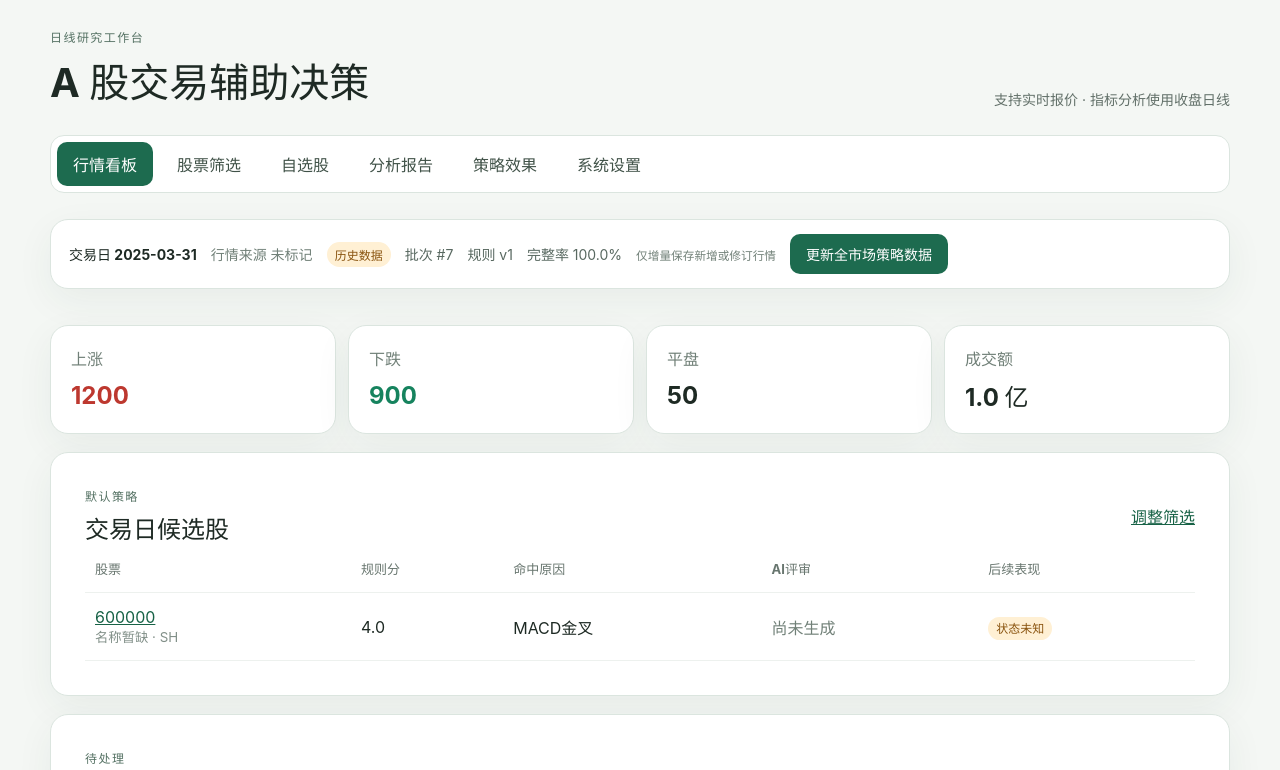
Test: App › 同步期间跨页导航仍持续检测新批次并刷新策略数据
The width and height of the screenshot is (1280, 770).
Click the button "更新全市场策略数据": (869, 254) x1=790 y1=234 x2=948 y2=274
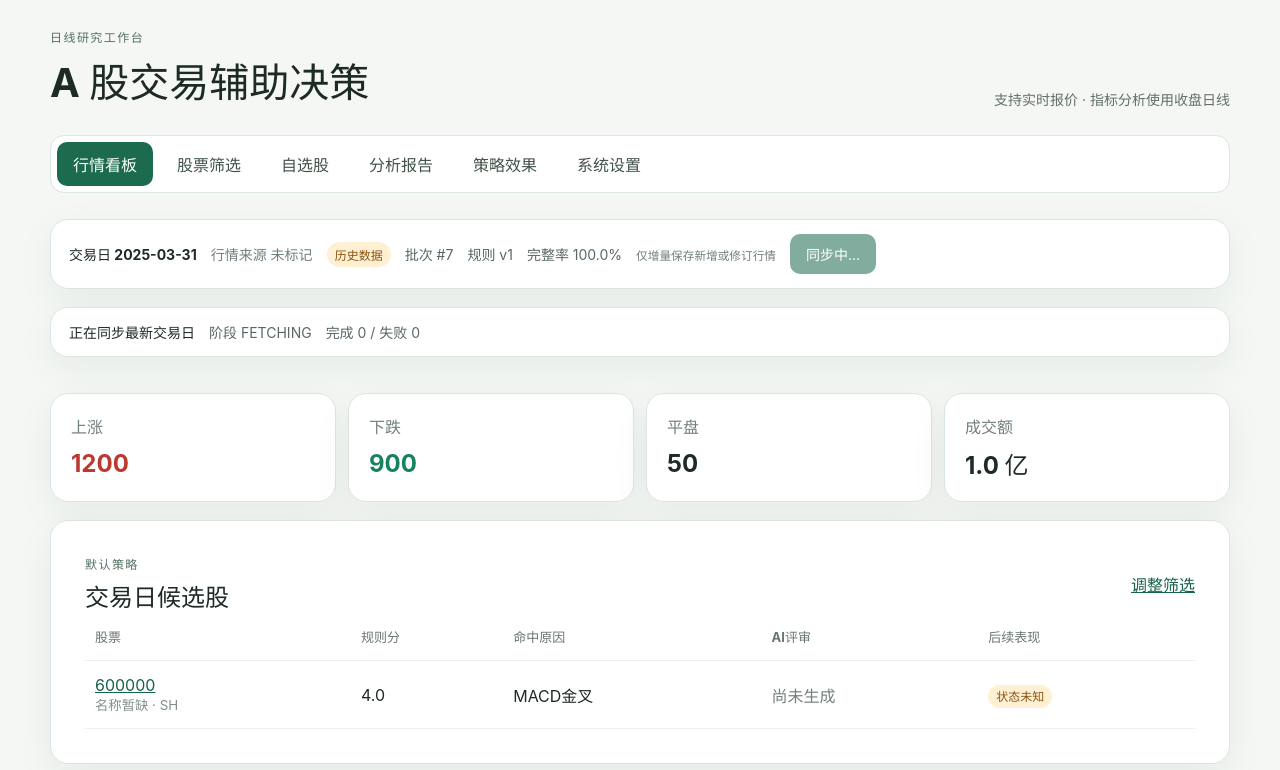
Click the link "策略效果": (505, 165) x1=473 y1=155 x2=537 y2=175
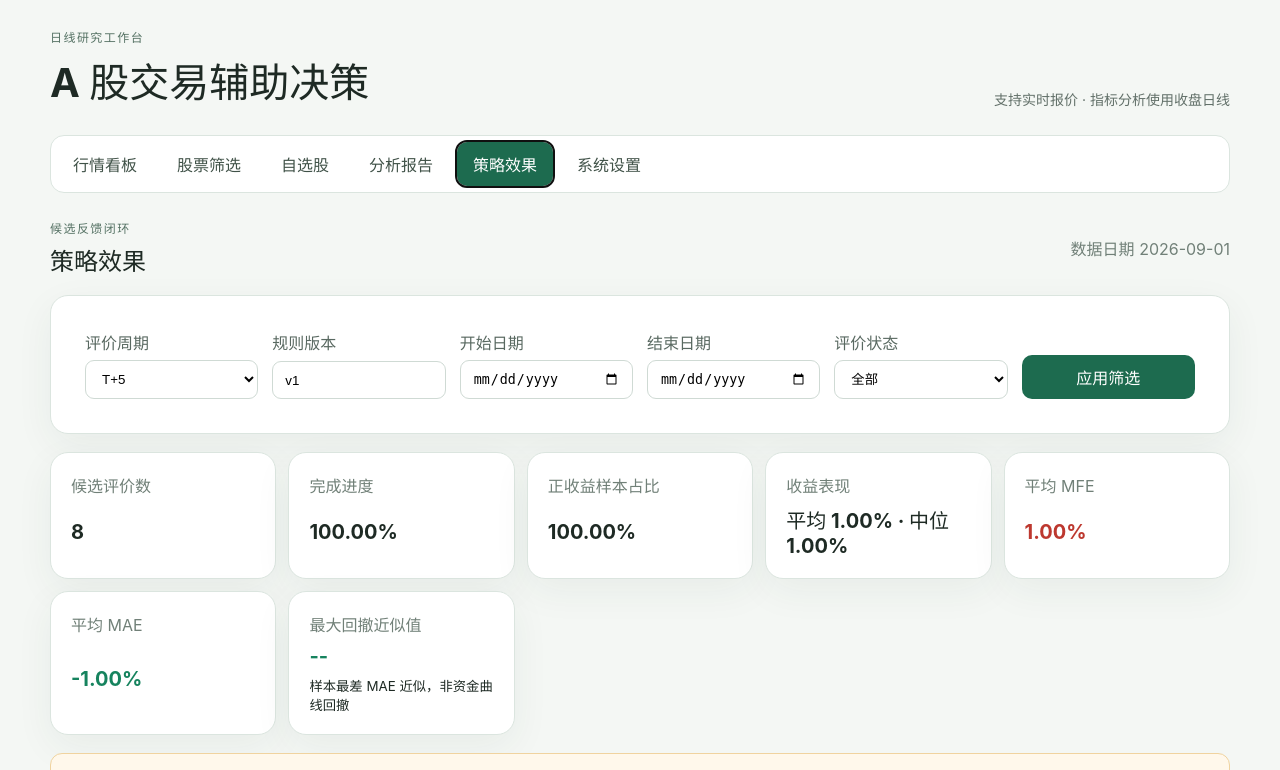
Check: the text "数据日期 2026-09-01" is shown, box x1=1071 y1=236 x2=1230 y2=260
